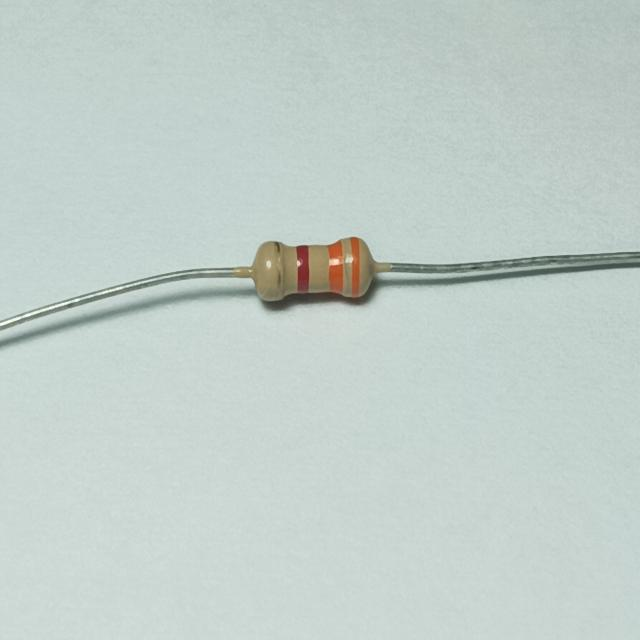3.3k ohms: (230, 226, 390, 326)
